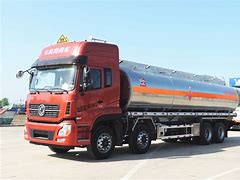oil truck: (19, 32, 237, 154)
